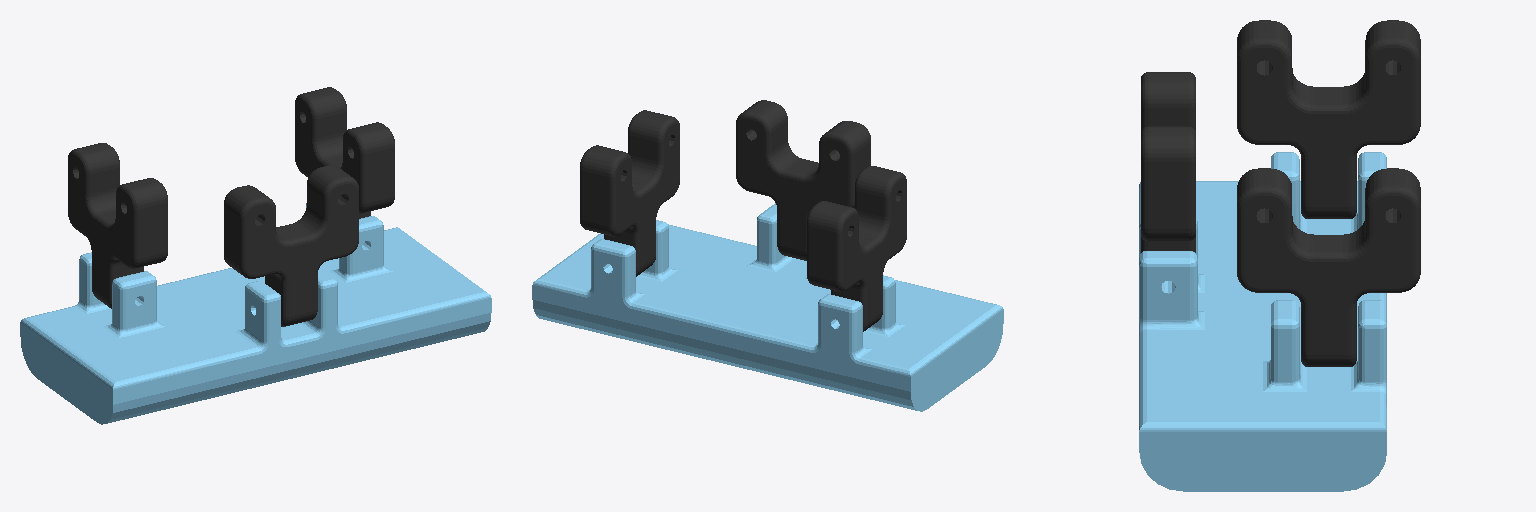
URDF robot description (blue-feet):
<?xml version="1.0" encoding="utf-8"?>
<!-- This URDF was automatically created by SolidWorks to URDF Exporter! Originally created by [author] ([email redacted]) 
     Commit Version: 1.6.0-1-g15f4949  Build Version: 1.6.7594.29634
     For more information, please see http://wiki.ros.org/sw_urdf_exporter -->
<robot
  name="blue-feet">
  <link
    name="base_link_feet">
    <inertial>
      <origin
        xyz="-2.1345E-08 0.00010829 0.0057911"
        rpy="0 0 0" />
      <mass
        value="0.02827" />
      <inertia
        ixx="2.9876E-06"
        ixy="-6.9853E-12"
        ixz="2.158E-12"
        iyy="1.5204E-05"
        iyz="-2.7552E-08"
        izz="1.7419E-05" />
    </inertial>
    <visual>
      <origin
        xyz="0 0 0"
        rpy="0 0 0" />
      <geometry>
        <mesh
          filename="package://blue-feet/meshes/base_link_feet.STL" />
      </geometry>
      <material
        name="">
        <color
          rgba="0.60784 0.86667 1 1" />
      </material>
    </visual>
    <collision>
      <origin
        xyz="0 0 0"
        rpy="0 0 0" />
      <geometry>
        <mesh
          filename="package://blue-feet/meshes/base_link_feet.STL" />
      </geometry>
    </collision>
  </link>
  <link
    name="Link1_feet">
    <inertial>
      <origin
        xyz="0.011918 6.9389E-18 6.9389E-18"
        rpy="0 0 0" />
      <mass
        value="0.0028359" />
      <inertia
        ixx="1.5845E-07"
        ixy="-5.1957E-24"
        ixz="3.4228E-23"
        iyy="2.6992E-07"
        iyz="2.3397E-24"
        izz="1.3803E-07" />
    </inertial>
    <visual>
      <origin
        xyz="0 0 0"
        rpy="0 0 0" />
      <geometry>
        <mesh
          filename="package://blue-feet/meshes/Link1_feet.STL" />
      </geometry>
      <material
        name="">
        <color
          rgba="0.25098 0.25098 0.25098 1" />
      </material>
    </visual>
    <collision>
      <origin
        xyz="0 0 0"
        rpy="0 0 0" />
      <geometry>
        <mesh
          filename="package://blue-feet/meshes/Link1_feet.STL" />
      </geometry>
    </collision>
  </link>
  <joint
    name="Joint1_feet"
    type="revolute">
    <origin
      xyz="0.024 0.0089993 0.016"
      rpy="1.5708 -1.5708 0" />
    <parent
      link="base_link_feet" />
    <child
      link="Link1_feet" />
    <axis
      xyz="0 0 1" />
    <limit
      lower="0"
      upper="0"
      effort="0"
      velocity="0" />
  </joint>
  <link
    name="Link2_feet">
    <inertial>
      <origin
        xyz="0.011918 0 0"
        rpy="0 0 0" />
      <mass
        value="0.0028359" />
      <inertia
        ixx="1.5845E-07"
        ixy="2.7941E-25"
        ixz="1.5804E-23"
        iyy="2.6992E-07"
        iyz="-5.6063E-24"
        izz="1.3803E-07" />
    </inertial>
    <visual>
      <origin
        xyz="0 0 0"
        rpy="0 0 0" />
      <geometry>
        <mesh
          filename="package://blue-feet/meshes/Link2_feet.STL" />
      </geometry>
      <material
        name="">
        <color
          rgba="0.25098 0.25098 0.25098 1" />
      </material>
    </visual>
    <collision>
      <origin
        xyz="0 0 0"
        rpy="0 0 0" />
      <geometry>
        <mesh
          filename="package://blue-feet/meshes/Link2_feet.STL" />
      </geometry>
    </collision>
  </link>
  <joint
    name="Joint2_feet"
    type="revolute">
    <origin
      xyz="-0.024 0.0089993 0.016"
      rpy="1.5708 -1.5708 0" />
    <parent
      link="base_link_feet" />
    <child
      link="Link2_feet" />
    <axis
      xyz="0 0 -1" />
    <limit
      lower="0"
      upper="0"
      effort="0"
      velocity="0" />
  </joint>
  <link
    name="Link3_feet">
    <inertial>
      <origin
        xyz="0.011918 1.3878E-17 2.511E-18"
        rpy="0 0 0" />
      <mass
        value="0.0028359" />
      <inertia
        ixx="1.5845E-07"
        ixy="-3.083E-24"
        ixz="1.2215E-23"
        iyy="2.6992E-07"
        iyz="-1.1957E-23"
        izz="1.3803E-07" />
    </inertial>
    <visual>
      <origin
        xyz="0 0 0"
        rpy="0 0 0" />
      <geometry>
        <mesh
          filename="package://blue-feet/meshes/Link3_feet.STL" />
      </geometry>
      <material
        name="">
        <color
          rgba="0.25098 0.25098 0.25098 1" />
      </material>
    </visual>
    <collision>
      <origin
        xyz="0 0 0"
        rpy="0 0 0" />
      <geometry>
        <mesh
          filename="package://blue-feet/meshes/Link3_feet.STL" />
      </geometry>
    </collision>
  </link>
  <joint
    name="Joint3_feet"
    type="revolute">
    <origin
      xyz="0 -0.013 0.016"
      rpy="3.1416 -1.5708 0" />
    <parent
      link="base_link_feet" />
    <child
      link="Link3_feet" />
    <axis
      xyz="0 0 -1" />
    <limit
      lower="0"
      upper="0"
      effort="0"
      velocity="0" />
  </joint>
</robot>

--- What the picture shows (computed from the rendered views, not written in the file) ---
3 views of the same robot in one strip: view 1: azimuth 30°, elevation 25°; view 2: azimuth 150°, elevation 25°; view 3: azimuth 270°, elevation 25° (orthographic).
Robot: blue-feet — 4 links, 3 joints (3 revolute); root link base_link_feet; default pose: all joints at 0.
Visible links, largest first — view 1: base_link_feet, Link3_feet, Link2_feet, Link1_feet; view 2: base_link_feet, Link3_feet, Link1_feet, Link2_feet; view 3: base_link_feet, Link1_feet, Link2_feet, Link3_feet.
Boxes of the visible links, left/top/right/bottom form: base_link_feet: left=20, top=203, right=491, bottom=424; Link3_feet: left=224, top=165, right=358, bottom=326; Link2_feet: left=68, top=143, right=167, bottom=308; Link1_feet: left=295, top=87, right=394, bottom=218; base_link_feet: left=532, top=203, right=1003, bottom=411; Link3_feet: left=736, top=100, right=870, bottom=260; Link1_feet: left=580, top=110, right=679, bottom=276; Link2_feet: left=807, top=166, right=906, bottom=331; base_link_feet: left=1139, top=152, right=1386, bottom=491; Link1_feet: left=1237, top=168, right=1420, bottom=366; Link2_feet: left=1237, top=20, right=1420, bottom=218; Link3_feet: left=1141, top=72, right=1195, bottom=252.
Size in the robot's own frame: 0.08 by 0.0386 by 0.04 metres.
Meshes: 4 distinct files referenced, 4 mesh visuals loaded (4 binary STL).